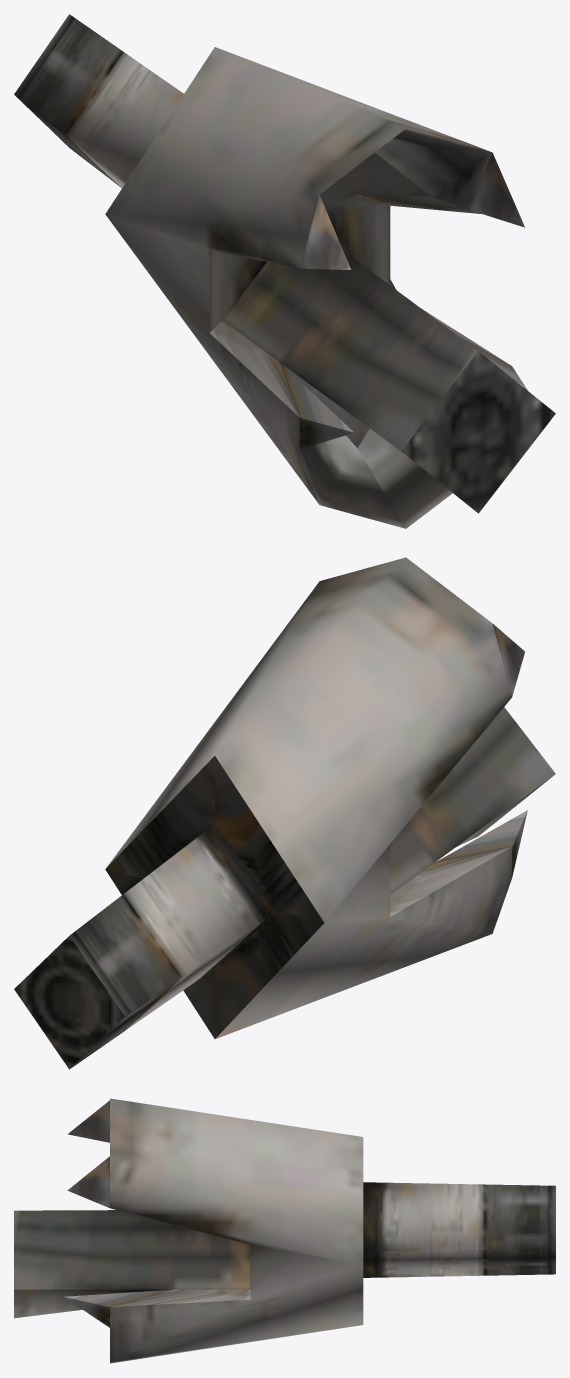
File: hutt_fighter_light_engine_s02_l3.fbx
3 renders of one model, top to bottom at view 1: azimuth 30°, elevation 25°; view 2: azimuth 150°, elevation 25°; view 3: azimuth 270°, elevation 25°, orthographic. The views are drawn at different scales.
Parts seen in each view (by area): view 1: mesh_node; view 2: mesh_node; view 3: mesh_node.
Boxes of the visible parts, left/top/right/bottom form: mesh_node: left=14, top=14, right=555, bottom=528; mesh_node: left=14, top=557, right=555, bottom=1069; mesh_node: left=14, top=1098, right=555, bottom=1363.
Bounding box in the file's own units: 1.77 × 3.09 × 5.73.
